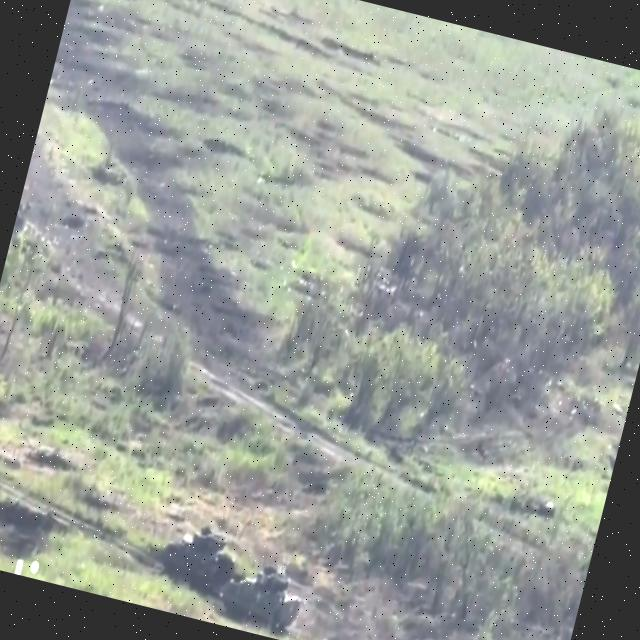AIFV: (217, 555, 311, 639), (154, 518, 244, 602)
